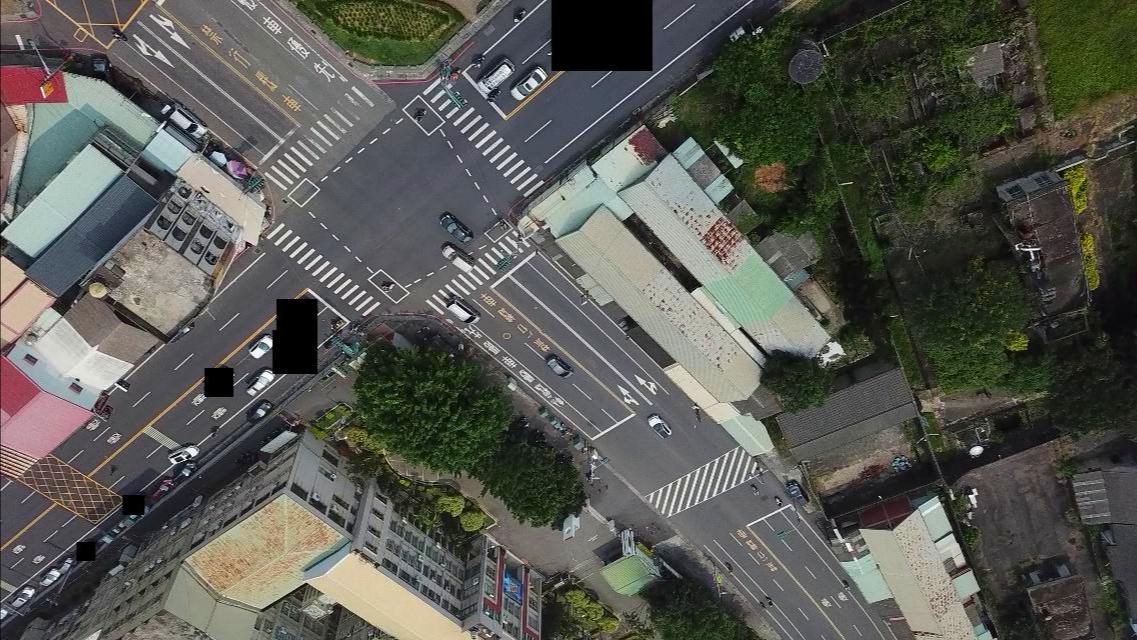vehicle: (163, 103, 208, 138), (476, 59, 513, 95), (510, 66, 547, 100), (439, 212, 474, 243), (441, 244, 474, 273), (447, 297, 480, 325), (87, 54, 113, 86), (544, 353, 573, 380), (244, 399, 270, 427), (246, 369, 274, 395), (246, 337, 276, 361), (11, 583, 35, 609), (557, 0, 593, 17), (648, 413, 671, 438), (787, 482, 810, 507), (166, 447, 197, 465), (173, 460, 197, 483), (152, 479, 172, 502), (39, 567, 58, 587), (58, 560, 73, 574)
